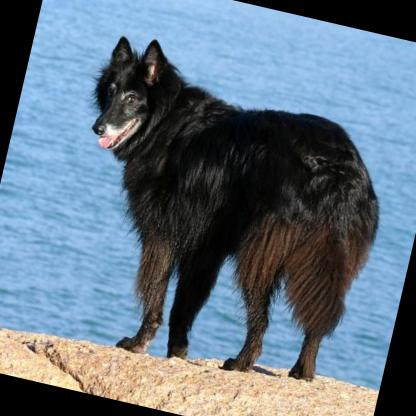groenendael: (34, 25, 404, 401)
